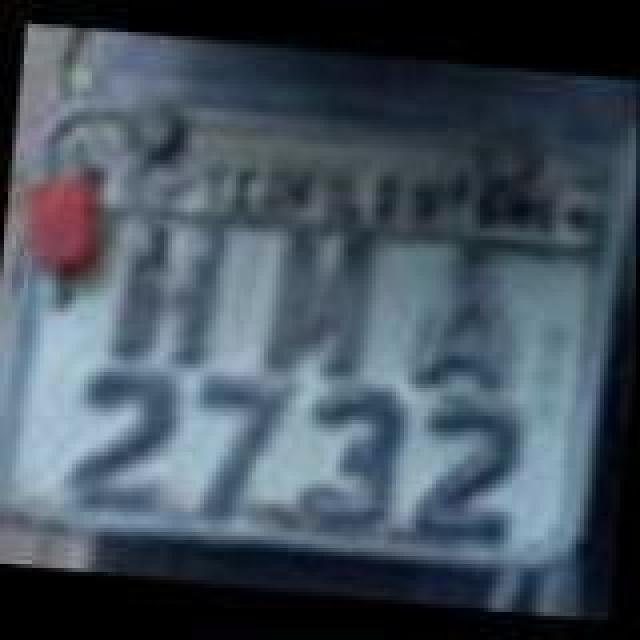2: (406, 390, 526, 542), (62, 364, 182, 516)
3: (292, 374, 408, 534)
7: (178, 372, 290, 528)
A: (414, 234, 522, 394)
H: (114, 210, 230, 378)
M: (262, 216, 386, 380)
